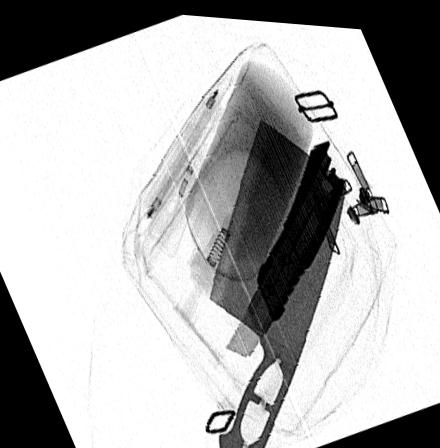Knife: (207, 113, 347, 448), (224, 134, 345, 355)
